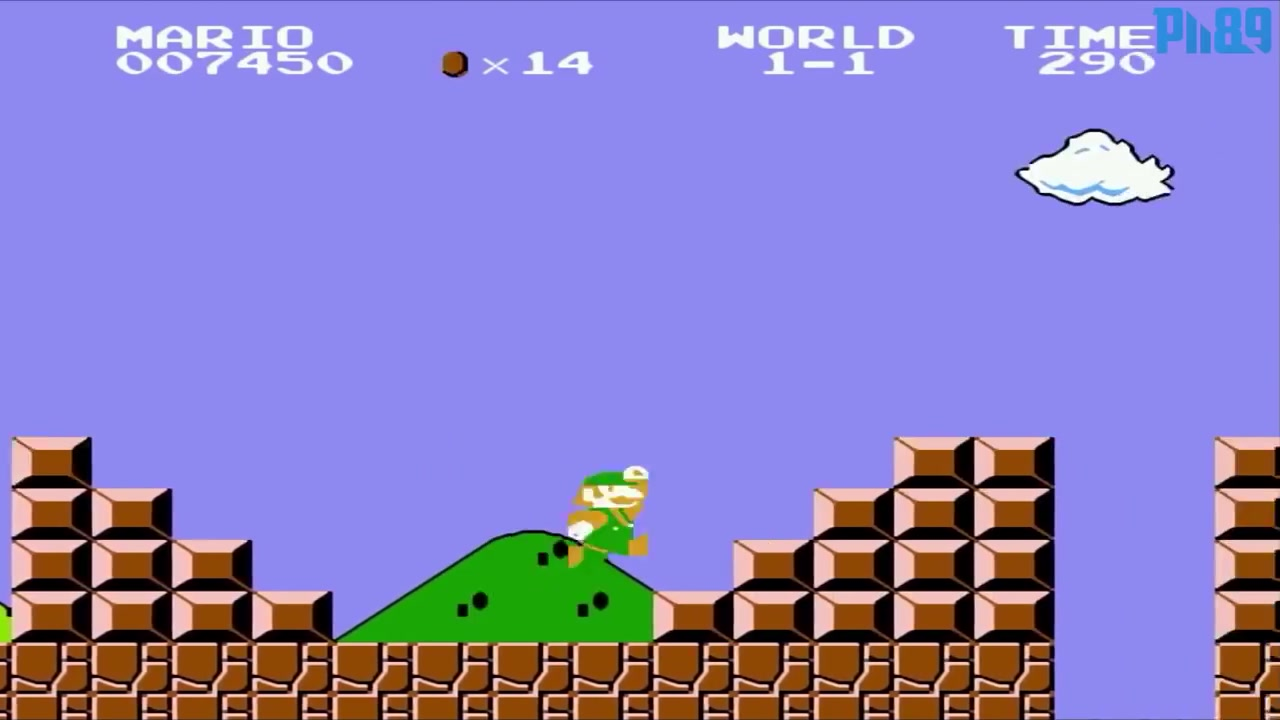mario: (551, 448, 653, 568)
